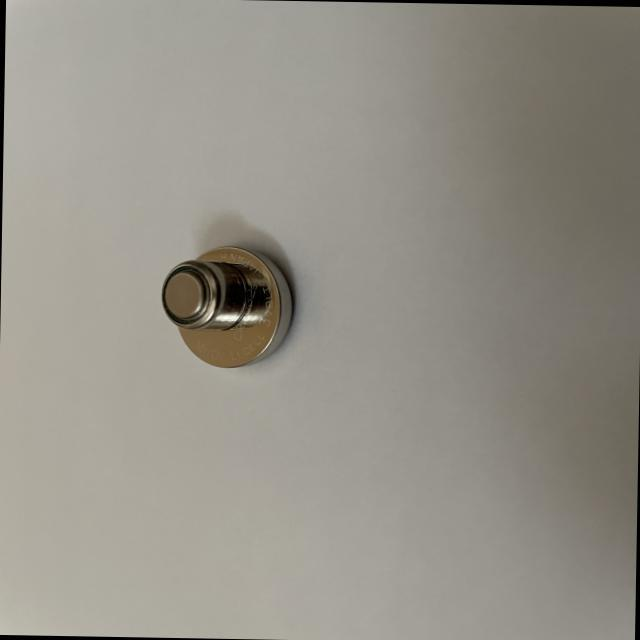COIN: (176, 243, 296, 369), (158, 255, 244, 330)
